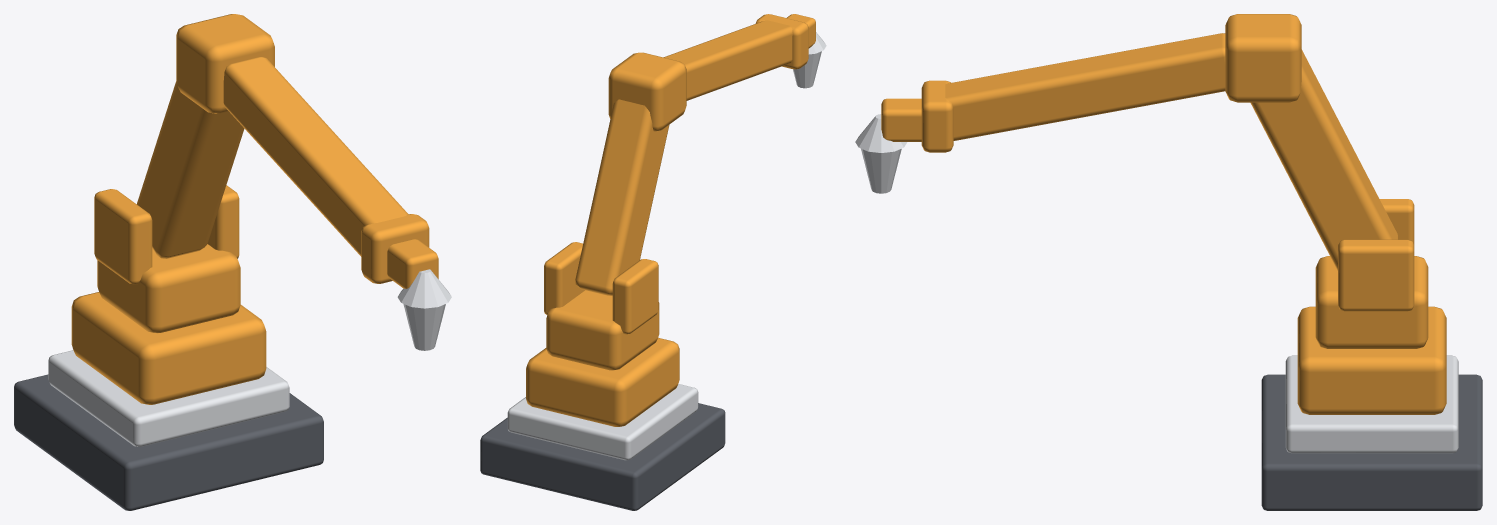
Rendered from paint-robot-with-bell-atomiser.glb.
3 renders of one model, left to right at view 1: azimuth 30°, elevation 25°; view 2: azimuth 150°, elevation 25°; view 3: azimuth 270°, elevation 25°, orthographic. The views are drawn at different scales.
Visible parts, largest first — view 1: arm-swing, paint-robot-with-bell-atomiser, base-spin, bell; view 2: arm-swing, base-spin, paint-robot-with-bell-atomiser, bell; view 3: arm-swing, paint-robot-with-bell-atomiser, base-spin, bell.
Part boxes in pixels (left/top/right/bottom): arm-swing: left=137, top=14, right=438, bottom=288; paint-robot-with-bell-atomiser: left=14, top=350, right=323, bottom=510; base-spin: left=71, top=185, right=266, bottom=404; bell: left=397, top=269, right=451, bottom=350; arm-swing: left=575, top=14, right=815, bottom=295; base-spin: left=526, top=242, right=679, bottom=426; paint-robot-with-bell-atomiser: left=480, top=384, right=725, bottom=510; bell: left=793, top=32, right=826, bottom=88; arm-swing: left=881, top=14, right=1397, bottom=270; paint-robot-with-bell-atomiser: left=1261, top=355, right=1482, bottom=510; base-spin: left=1297, top=199, right=1446, bottom=414; bell: left=855, top=114, right=907, bottom=193.
Bounding box in the file's own units: 1.1 × 2.42 × 3.12.
